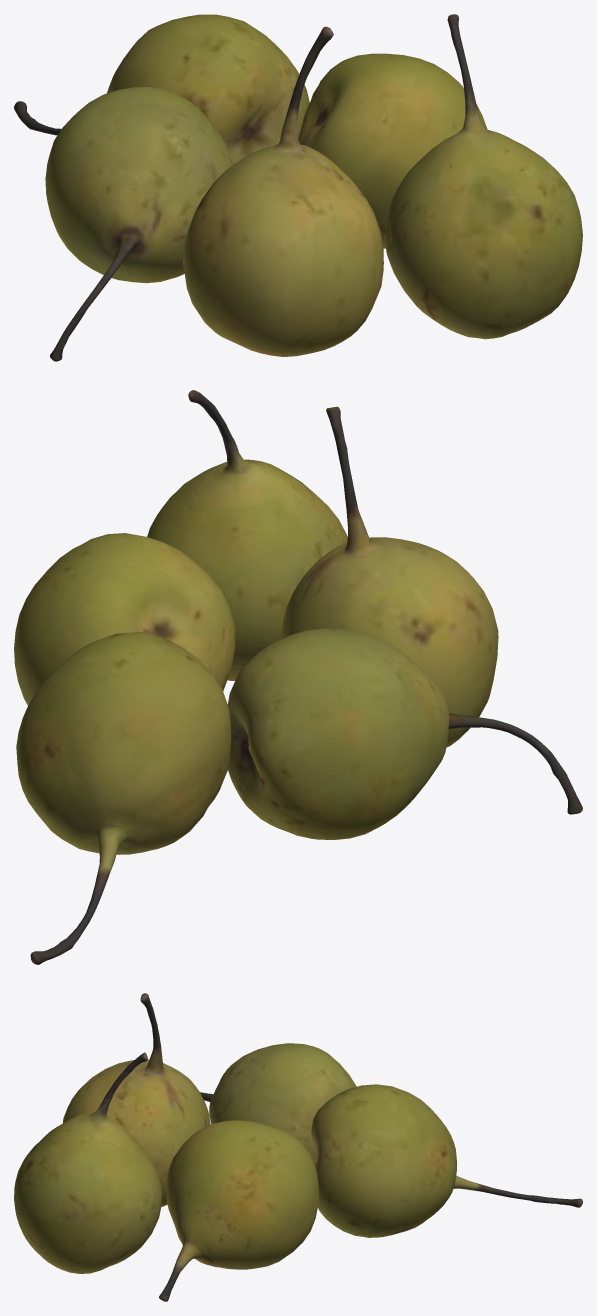
The model's file is food_pears_asian_01.glb.
The picture shows the model from 3 angles, top to bottom: view 1: azimuth 30°, elevation 25°; view 2: azimuth 150°, elevation 25°; view 3: azimuth 270°, elevation 25°; orthographic projection. The views are drawn at different scales.
Visible parts, largest first — view 1: food_pears_asian_01_b; view 2: food_pears_asian_01_b; view 3: food_pears_asian_01_b.
Boxes of the visible parts, x1=… form: food_pears_asian_01_b: x1=14, y1=14, x2=582, y2=361; food_pears_asian_01_b: x1=14, y1=390, x2=582, y2=964; food_pears_asian_01_b: x1=14, y1=993, x2=582, y2=1301.
Bounding box in the file's own units: 0.1261 × 0.0711 × 0.1669.
1 material, 1 textured.
